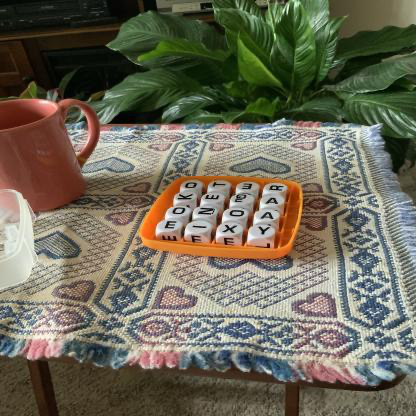a: (255, 210, 280, 222), (262, 196, 285, 207)
e: (158, 220, 182, 232), (203, 193, 226, 204), (238, 183, 260, 193)
i: (188, 222, 212, 234)
k: (176, 193, 198, 203)
n: (195, 207, 218, 218)
o: (225, 209, 249, 221), (168, 207, 191, 218), (182, 181, 203, 190)
qu: (232, 195, 255, 205)
r: (265, 184, 288, 193)
t: (210, 181, 231, 191)
x: (219, 224, 244, 237)
y: (250, 226, 276, 239)
